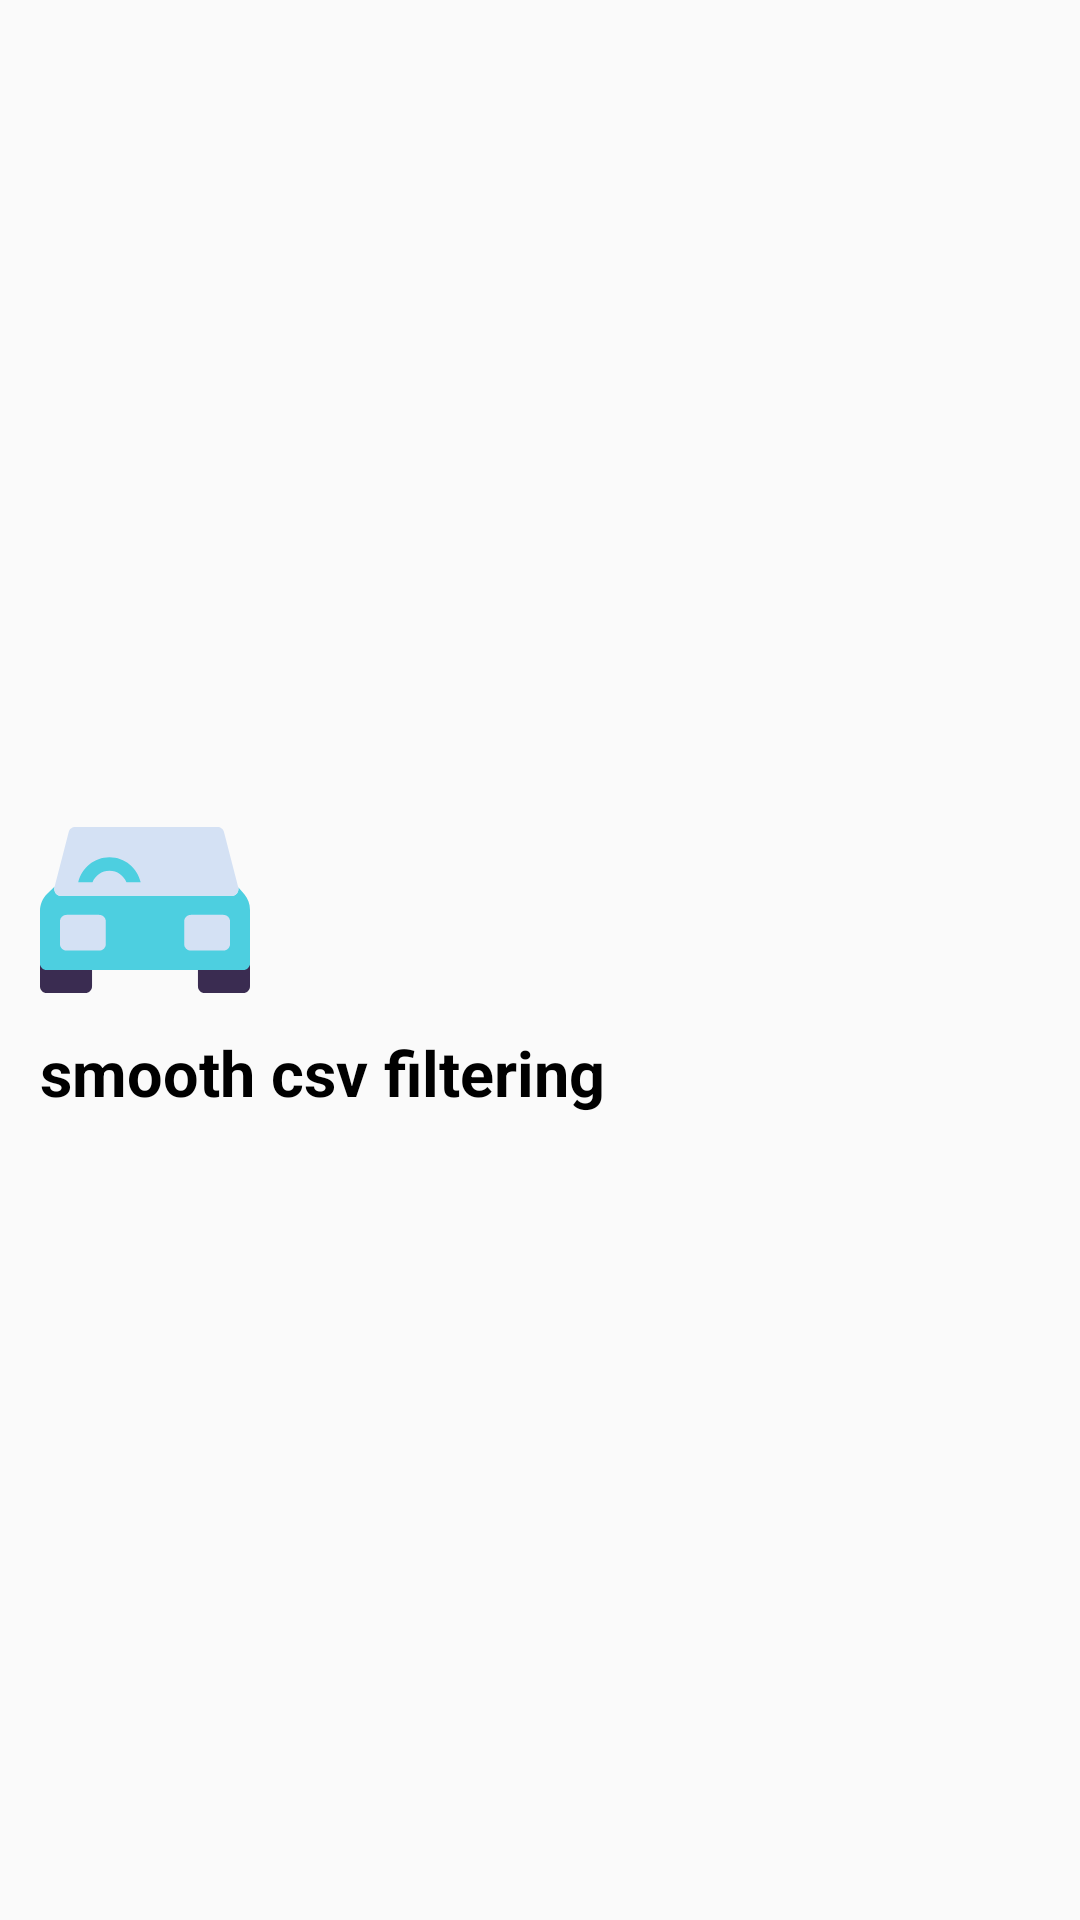

Icons on this 1080 x 1920 Android screen, each with the point to tap as point (x, y):
car: point (145, 910)
